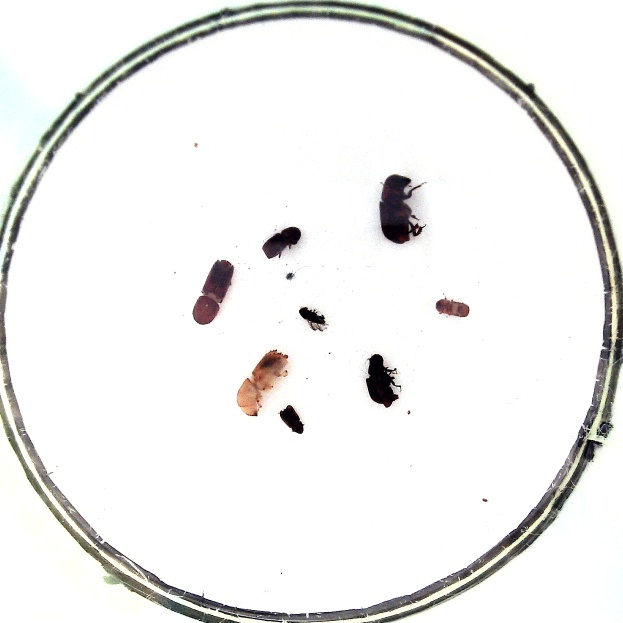acuminatus: (299, 307, 325, 326)
armandi: (365, 354, 399, 408)
boerner: (236, 349, 288, 416), (192, 259, 234, 324)
coleoptera: (435, 298, 469, 318), (280, 405, 303, 434)
leconte: (379, 174, 411, 244)
linnaeus: (261, 226, 301, 259)
